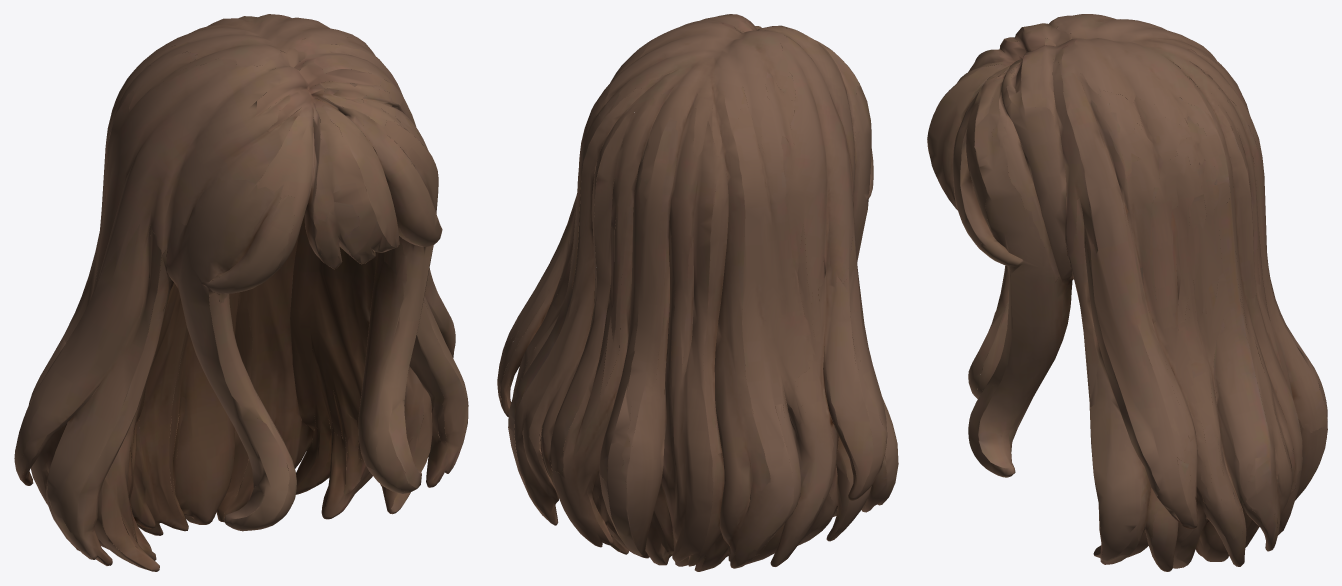
The model's file is hair_f01.glb.
3 views of the same model, side by side, from view 1: azimuth 30°, elevation 25°; view 2: azimuth 150°, elevation 25°; view 3: azimuth 270°, elevation 25° (orthographic). The views are drawn at different scales.
Parts seen in each view (by area): view 1: hair; view 2: hair; view 3: hair.
Boxes of the visible parts, <box> form: hair: <box>14,14,468,571</box>; hair: <box>497,14,898,571</box>; hair: <box>927,14,1327,571</box>.
Bounding box in the file's own units: 3.41 × 4.12 × 2.97.
Materials: 1 (1 with a texture image).
